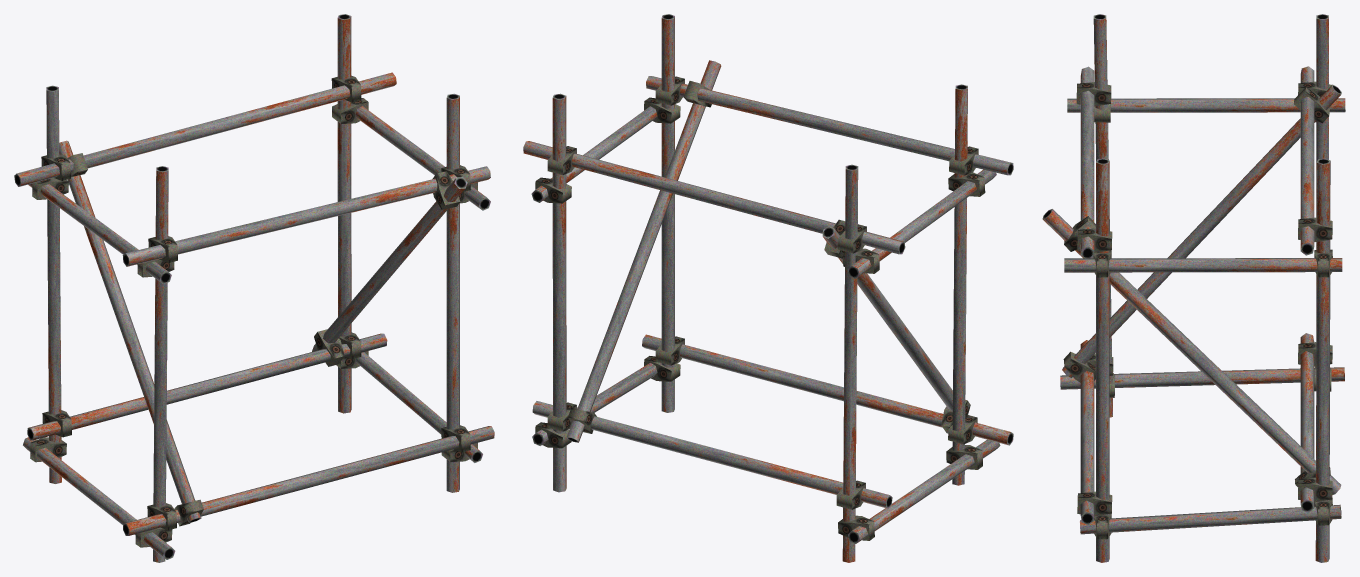
File: SM_ScaffTower.fbx
The picture shows the model from 3 angles, left to right: view 1: azimuth 30°, elevation 25°; view 2: azimuth 150°, elevation 25°; view 3: azimuth 270°, elevation 25°; orthographic projection.
Parts seen in each view (by area): view 1: Box009; view 2: Box009; view 3: Box009.
Part boxes in pixels (x1=…): Box009: x1=14, y1=14, x2=494, y2=562; Box009: x1=523, y1=14, x2=1013, y2=562; Box009: x1=1042, y1=14, x2=1345, y2=562.
Bounding box in the file's own units: 180 × 124 × 180.
Materials: 1 (1 with a texture image).
